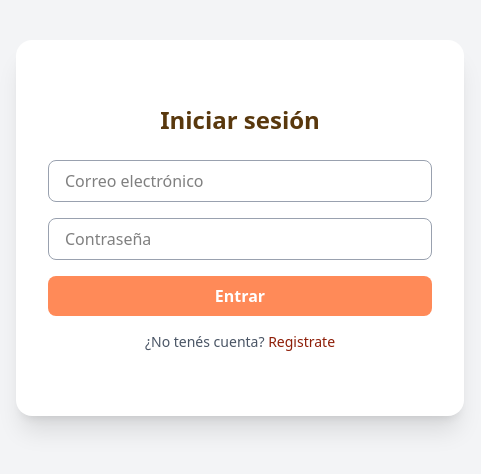
Test: Login Component › muestra errores de validación para campos vacíos en login
The image size is (481, 474).
Click the button "Entrar": [240, 296] box [48,276,432,316]
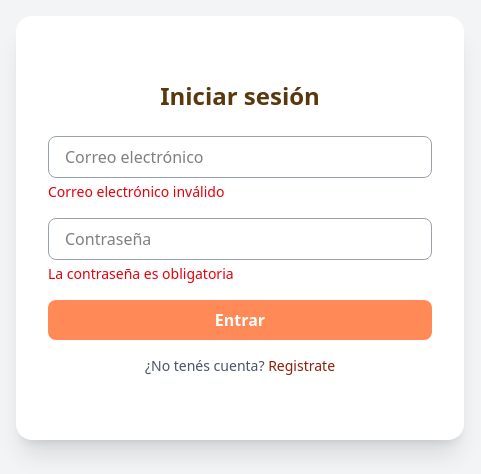
Check: the text "Correo electrónico inválido" is shown, box [48,182,224,201]
Check: the text "La contraseña es obligatoria" is shown, box [48,264,234,283]
